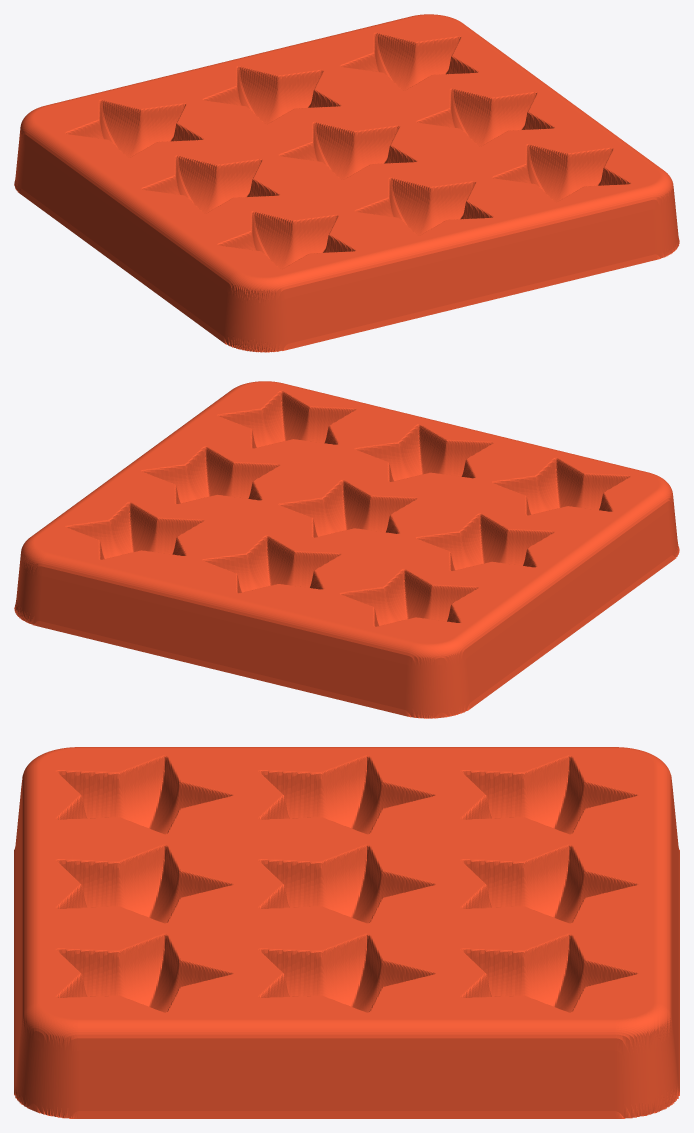
File: mold.glb
3 renders of one model, top to bottom at view 1: azimuth 30°, elevation 25°; view 2: azimuth 150°, elevation 25°; view 3: azimuth 270°, elevation 25°, orthographic. The views are drawn at different scales.
Parts seen in each view (by area): view 1: geometry_0; view 2: geometry_0; view 3: geometry_0.
Boxes of the visible parts, x1,y1,x2,y2 form: geometry_0: (14, 14, 679, 352); geometry_0: (14, 381, 679, 718); geometry_0: (14, 747, 679, 1118).
Size of the model in its own units: 0.0964 by 0.0136 by 0.0928.
